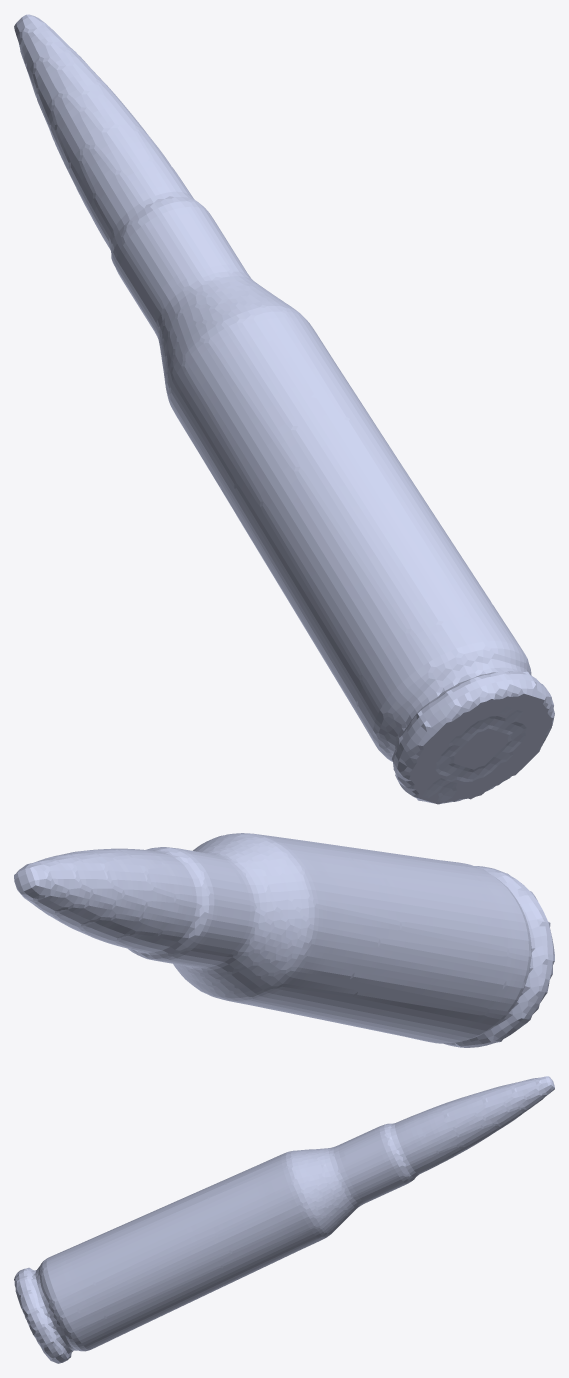
File: cartridge_545x39.glb
3 renders of one model, top to bottom at view 1: azimuth 30°, elevation 25°; view 2: azimuth 150°, elevation 25°; view 3: azimuth 270°, elevation 25°, orthographic. The views are drawn at different scales.
Parts seen in each view (by area): view 1: 5.45x39 Bullet; view 2: 5.45x39 Bullet; view 3: 5.45x39 Bullet.
Boxes of the visible parts, x1,y1,x2,y2 form: 5.45x39 Bullet: (14,14,554,804); 5.45x39 Bullet: (14,833,554,1047); 5.45x39 Bullet: (14,1076,554,1363).
Size of the model in its own units: 0.00998 by 0.0301 by 0.0529.
